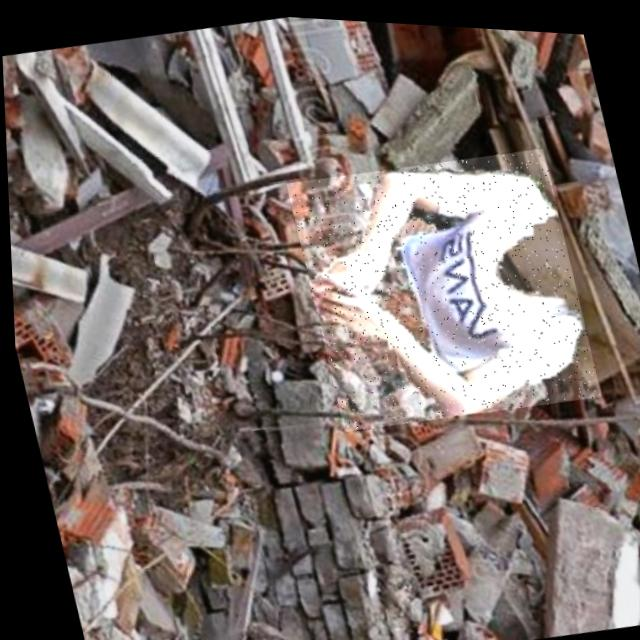Person in Rubble: (282, 129, 599, 440)
